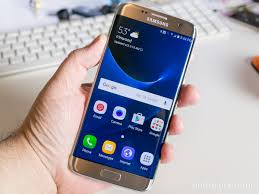samsung: (68, 1, 199, 193)
